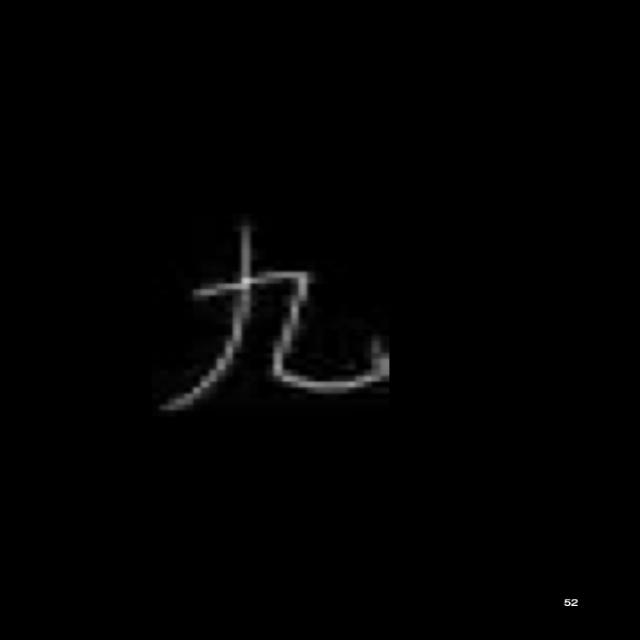9 -nine-: (153, 222, 397, 418)
